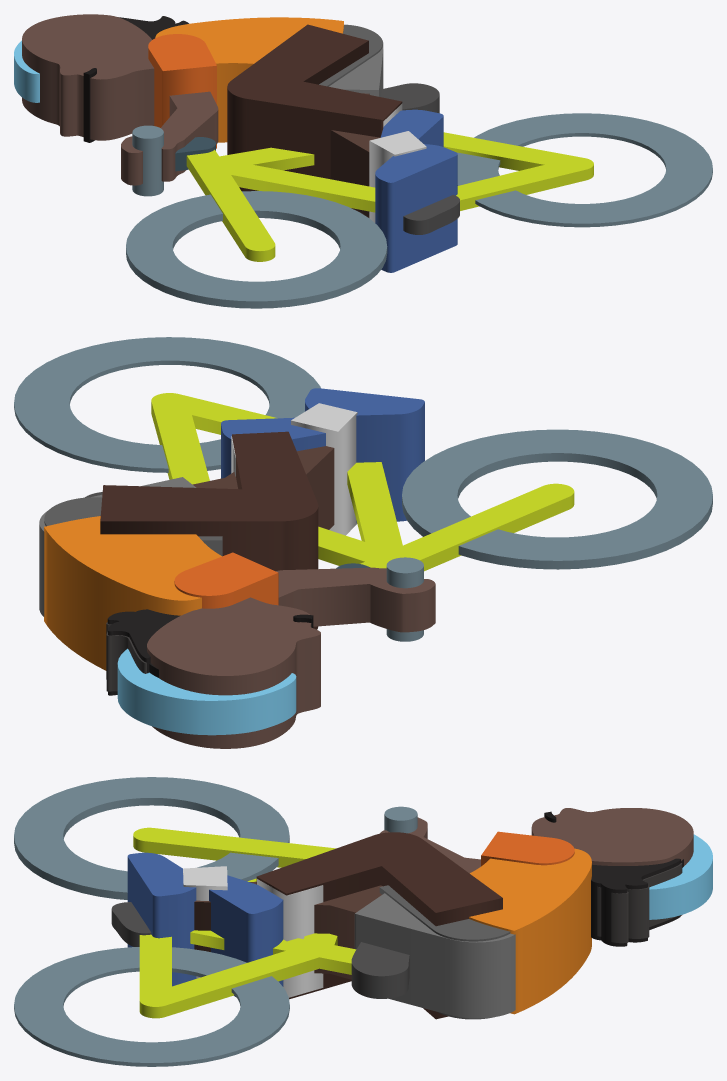
The model's file is emoji_u1f6b4_1f3ff.glb.
3 views of the same model, one above another, from view 1: azimuth 30°, elevation 25°; view 2: azimuth 150°, elevation 25°; view 3: azimuth 270°, elevation 25° (orthographic). The views are drawn at different scales.
Visible parts, largest first — view 1: emoji_u1f6b4_1f3ff; view 2: emoji_u1f6b4_1f3ff; view 3: emoji_u1f6b4_1f3ff.
Part boxes in pixels (x1,y1,x2,y2): emoji_u1f6b4_1f3ff: (14, 14, 712, 308); emoji_u1f6b4_1f3ff: (14, 337, 712, 748); emoji_u1f6b4_1f3ff: (14, 777, 712, 1066).
Bounding box in the file's own units: 0.0321 × 0.0056 × 0.0334.
